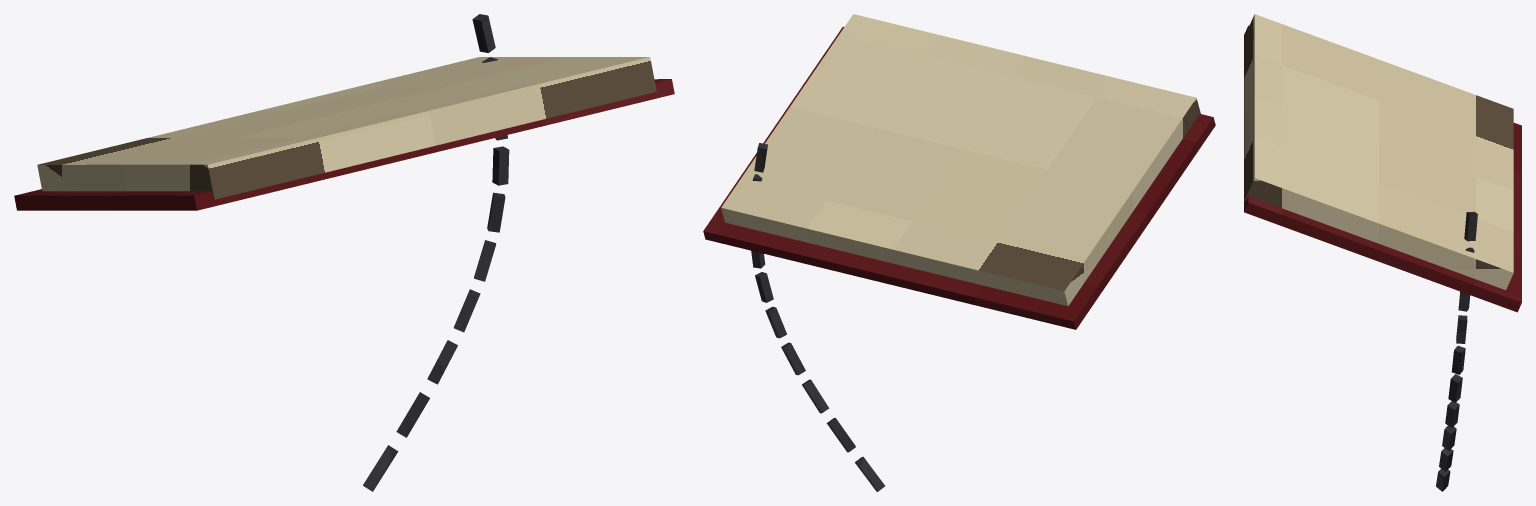
File: chained_books.glb
The picture shows the model from 3 angles, left to right: view 1: azimuth 30°, elevation 25°; view 2: azimuth 150°, elevation 25°; view 3: azimuth 270°, elevation 25°; orthographic projection. The views are drawn at different scales.
Parts seen in each view (by area): view 1: body; view 2: body; view 3: body.
Part boxes in pixels (box(x1,y1,x2,y2)): body: box(14, 14, 674, 491); body: box(703, 14, 1215, 491); body: box(1244, 14, 1521, 491).
Size of the model in its own units: 0.54 by 0.5271 by 0.3579.
Materials: 3 (3 with a texture image).
